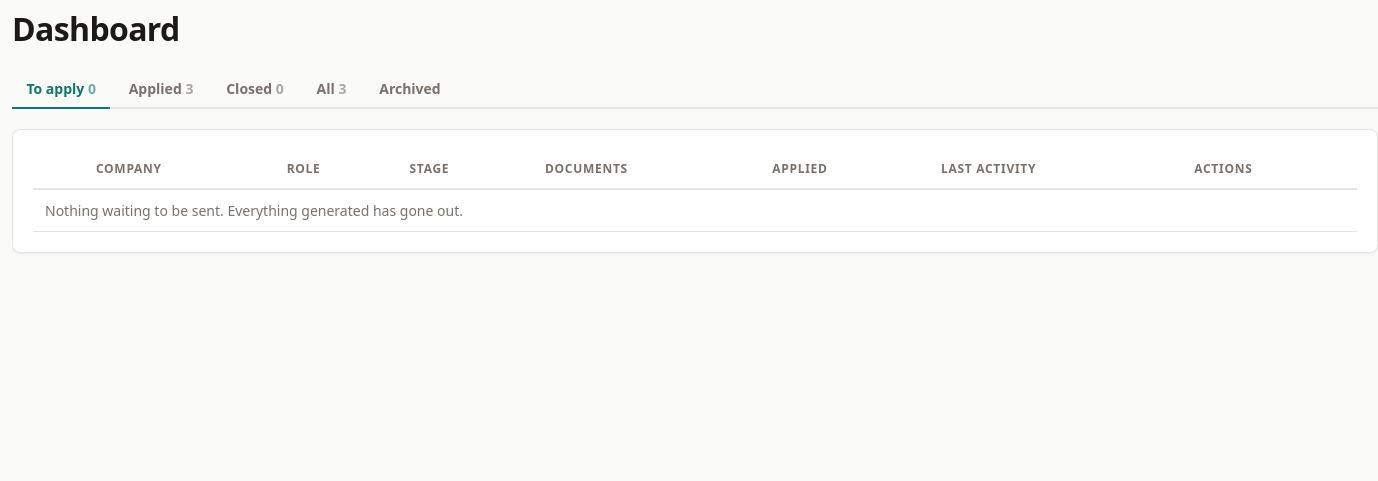
Test: DashboardScreen › reports how many items failed in a bulk action, not just the first
Click the button "All 3": {"x": 332, "y": 89} top-left (302, 70), bottom-right (361, 109)
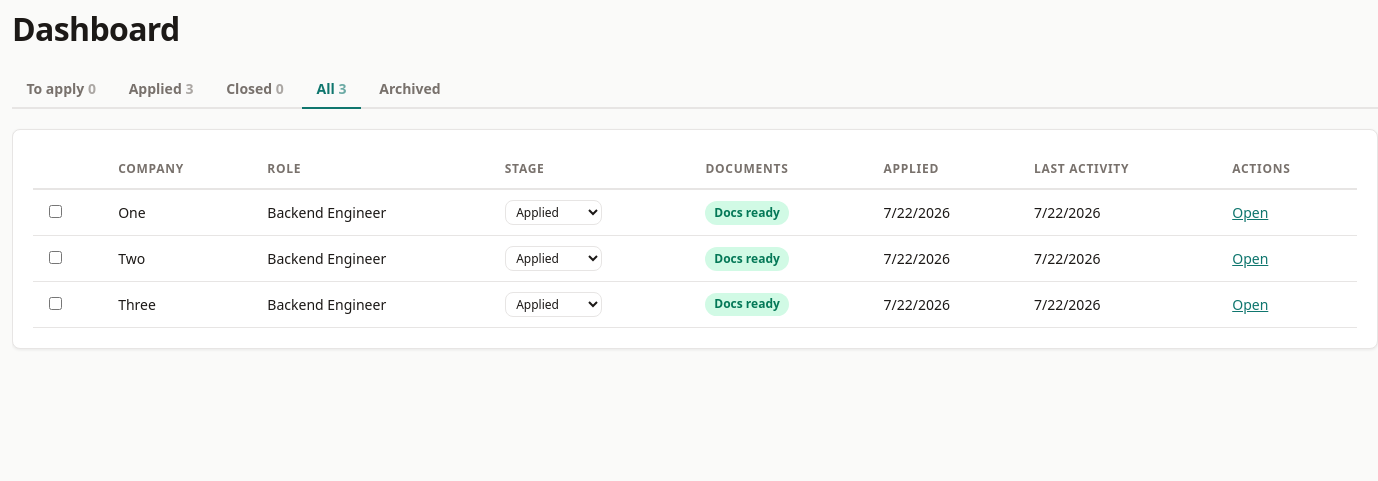
Expected: the text "One" is shown, top-left (106, 189), bottom-right (255, 236)
Click the checkbox named "select row 1": {"x": 56, "y": 211} top-left (49, 205), bottom-right (62, 218)
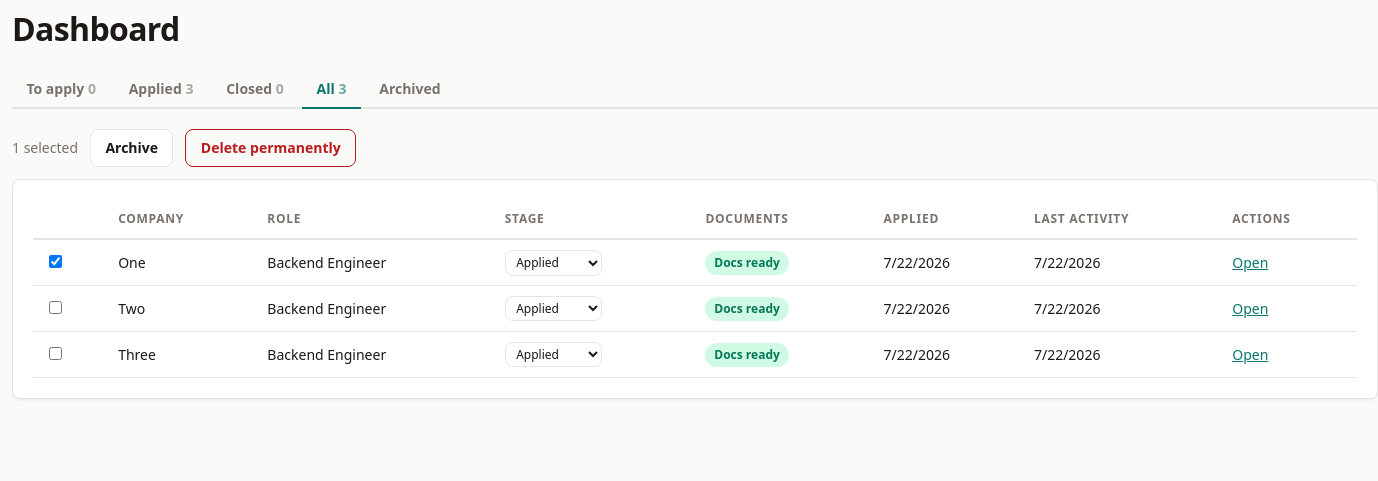
Click the checkbox named "Select row 2": {"x": 56, "y": 307} top-left (49, 301), bottom-right (62, 314)
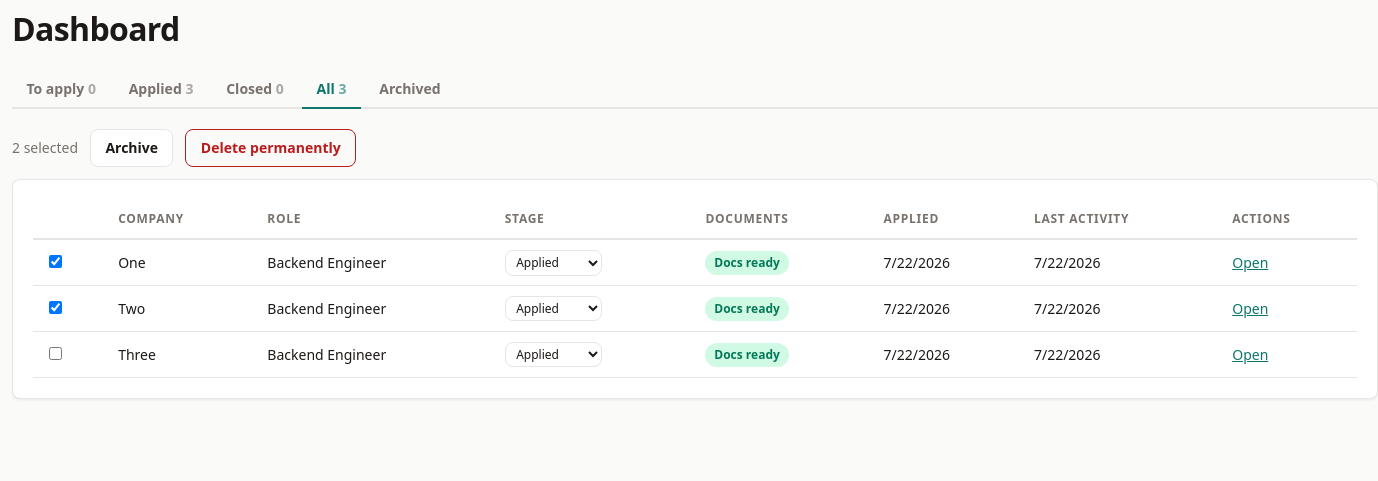
Click the checkbox named "Select row 3": {"x": 56, "y": 353} top-left (49, 347), bottom-right (62, 360)
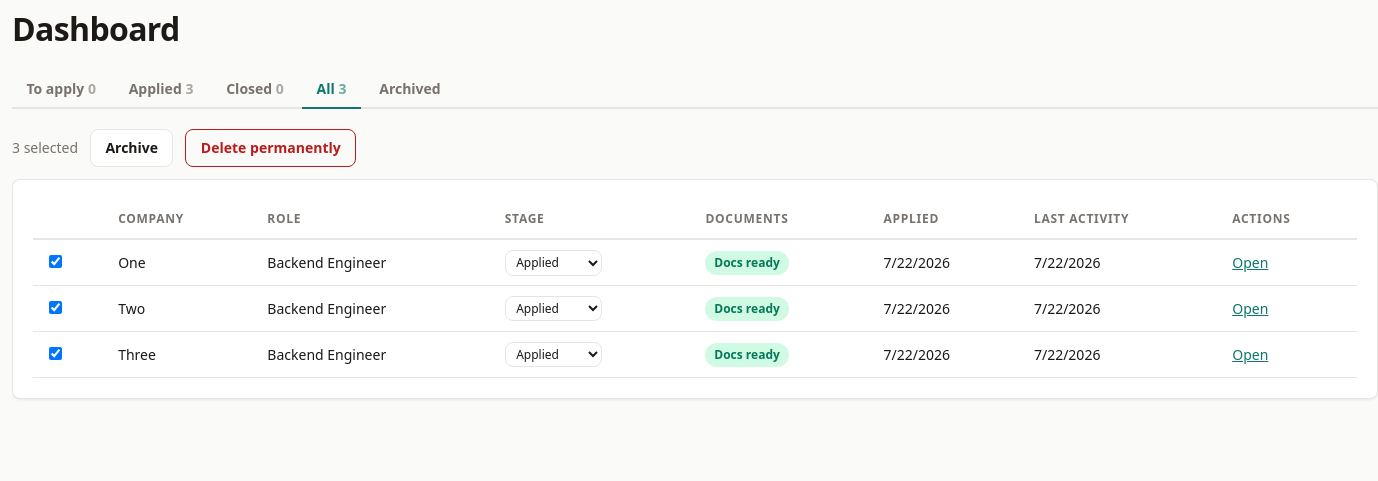
Click the button "Archive": {"x": 132, "y": 148} top-left (90, 129), bottom-right (173, 167)
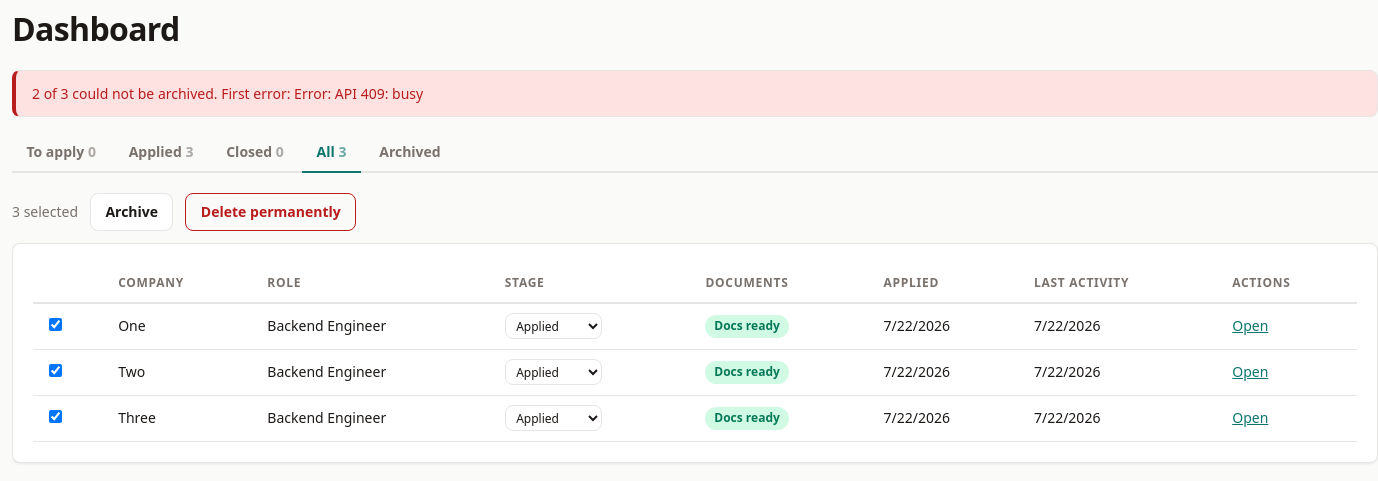
Result: the text "2 of 3 could not be archived" is shown at top-left (32, 84), bottom-right (423, 103)
